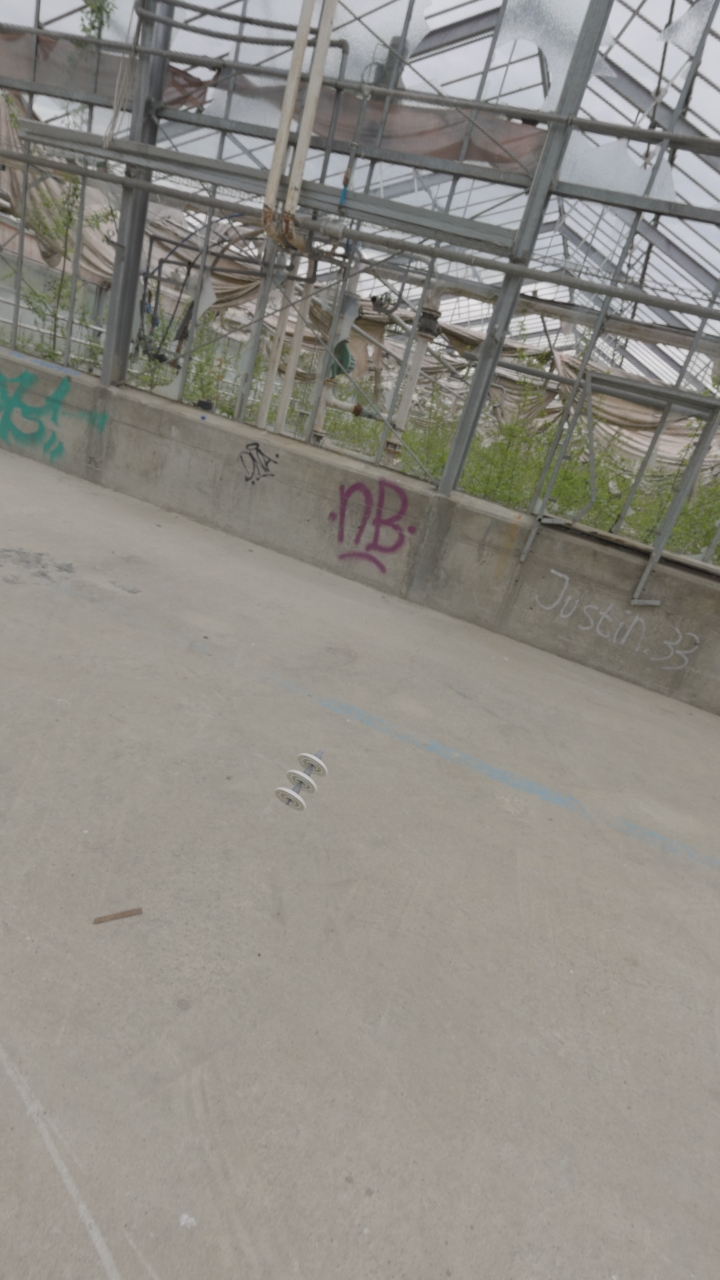ceramicinsulators: (274, 749, 327, 812)
